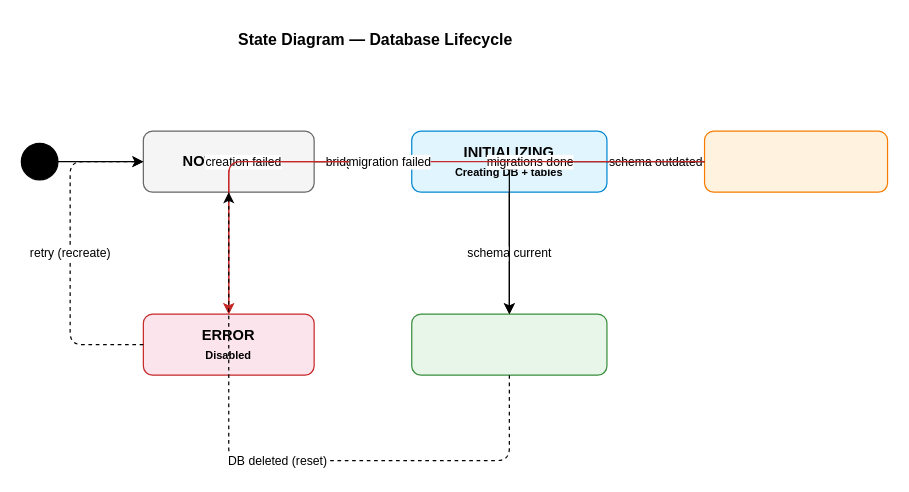
The diagram is 909 pixels wide and 492 high, and some of its shapes have lost their labels. Each missing label, with the centre of its shape:
MIGRATING Running migrations: [795,161]
READY Accepting queries: [509,344]
